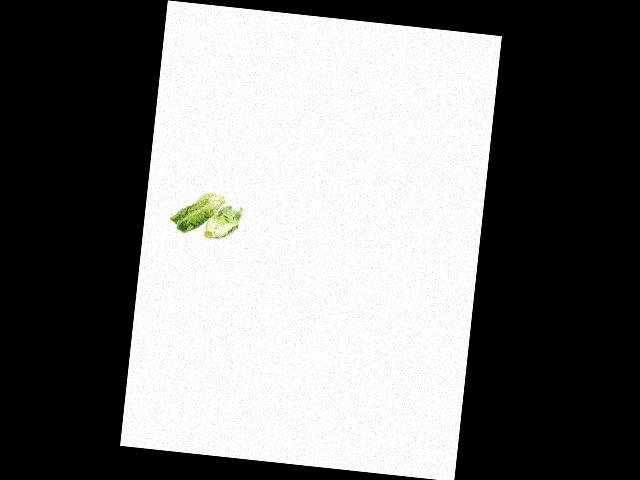lettuce: (154, 151, 252, 269)
